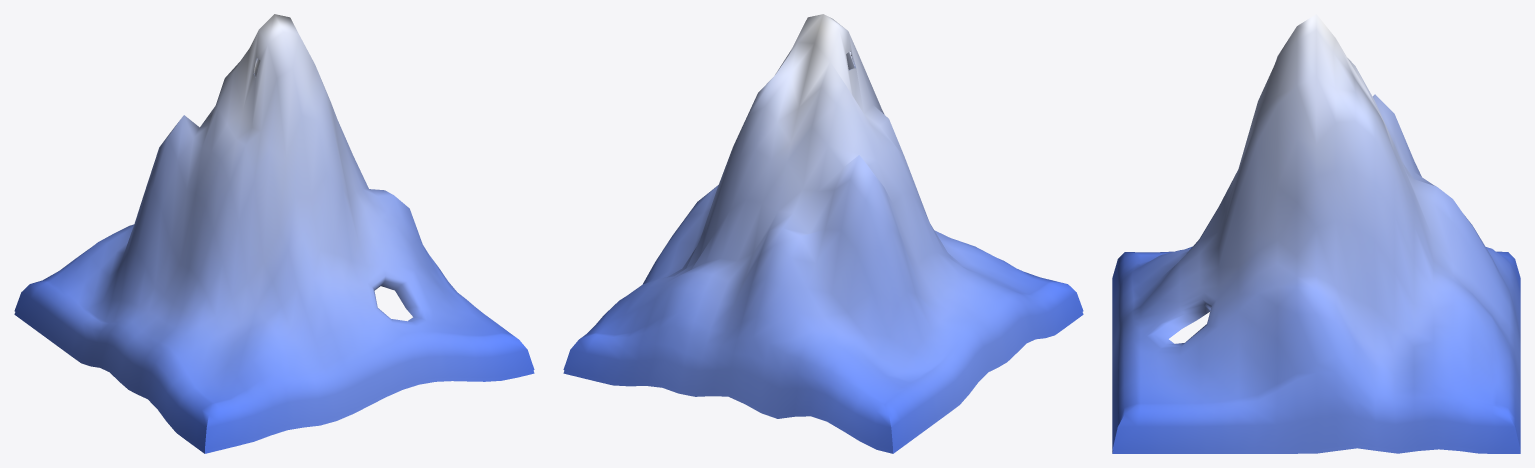
Rendered from Big moautin parkour.fbx.
3 renders of one model, left to right at view 1: azimuth 30°, elevation 25°; view 2: azimuth 150°, elevation 25°; view 3: azimuth 270°, elevation 25°, orthographic. The views are drawn at different scales.
Visible parts, largest first — view 1: pPlane2; view 2: pPlane2; view 3: pPlane2.
Part boxes in pixels (bbox=[...]): pPlane2: bbox=[14, 14, 534, 453]; pPlane2: bbox=[563, 14, 1083, 453]; pPlane2: bbox=[1112, 14, 1520, 453].
Size of the model in its own units: 18.82 by 18 by 18.82.
